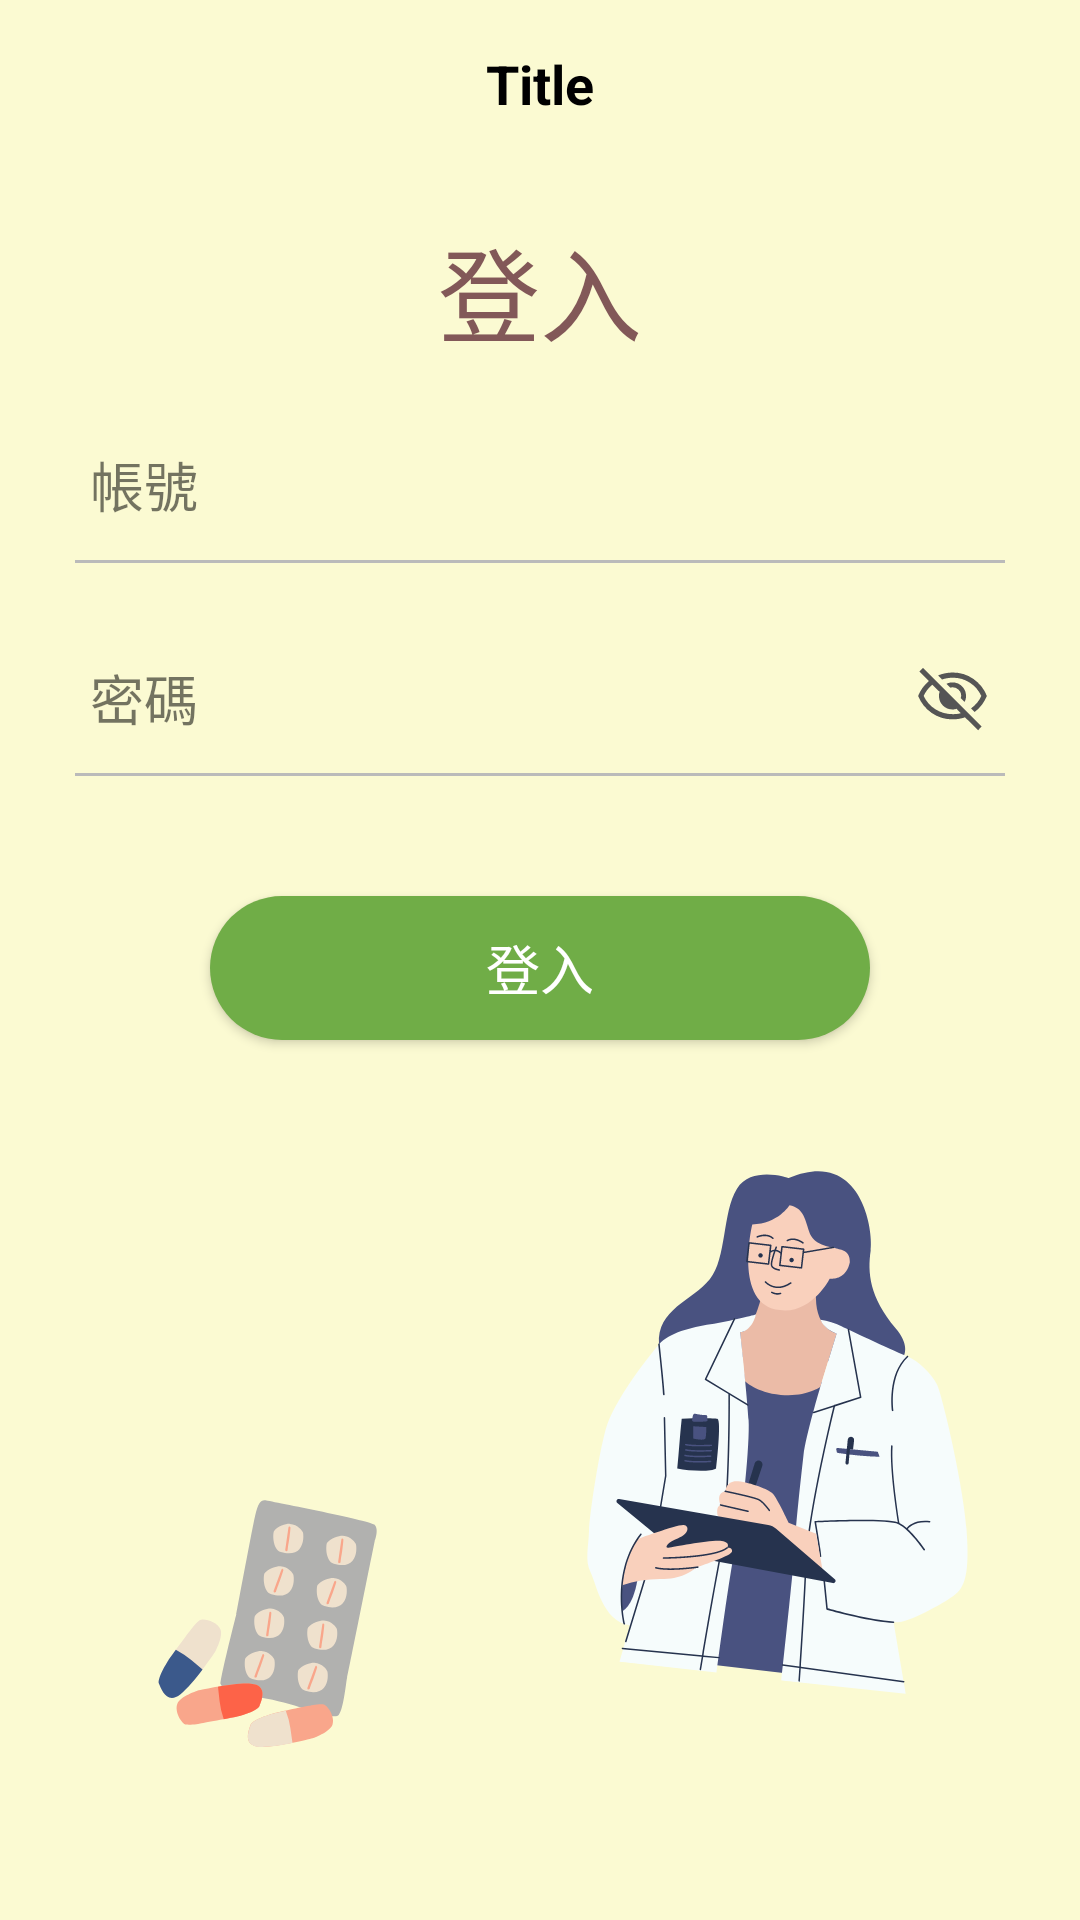

Named icons in this screenshot (1080w x 1920h) and their bounding boxes, [x1, y1, x2, y2]:
eyes off: [918, 668, 987, 730]
